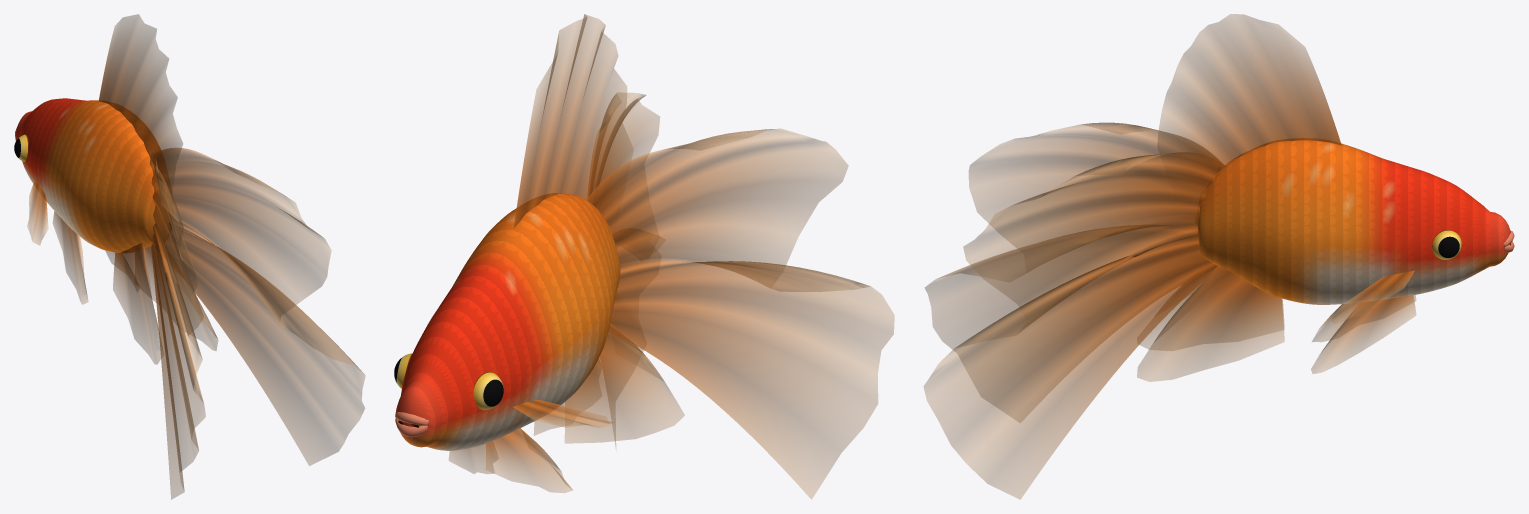
Rendered from fish.glb.
3 renders of one model, left to right at view 1: azimuth 30°, elevation 25°; view 2: azimuth 150°, elevation 25°; view 3: azimuth 270°, elevation 25°, orthographic. The views are drawn at different scales.
Parts seen in each view (by area): view 1: Fish; view 2: Fish; view 3: Fish.
Part boxes in pixels (x1,y1,x2,y2): Fish: [14, 14, 365, 499]; Fish: [394, 14, 894, 499]; Fish: [923, 14, 1514, 499].
Size of the model in its own units: 0.0403 by 0.0857 by 0.1027.
Materials: 3 (1 with a texture image).
